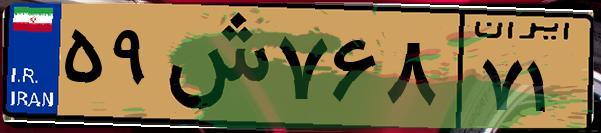1: (525, 38, 570, 115)
5: (57, 26, 110, 100)
6: (330, 28, 385, 110)
7: (270, 28, 330, 110), (475, 38, 525, 113)
8: (385, 28, 445, 110)
9: (110, 28, 158, 98)
ش: (158, 12, 270, 120)
